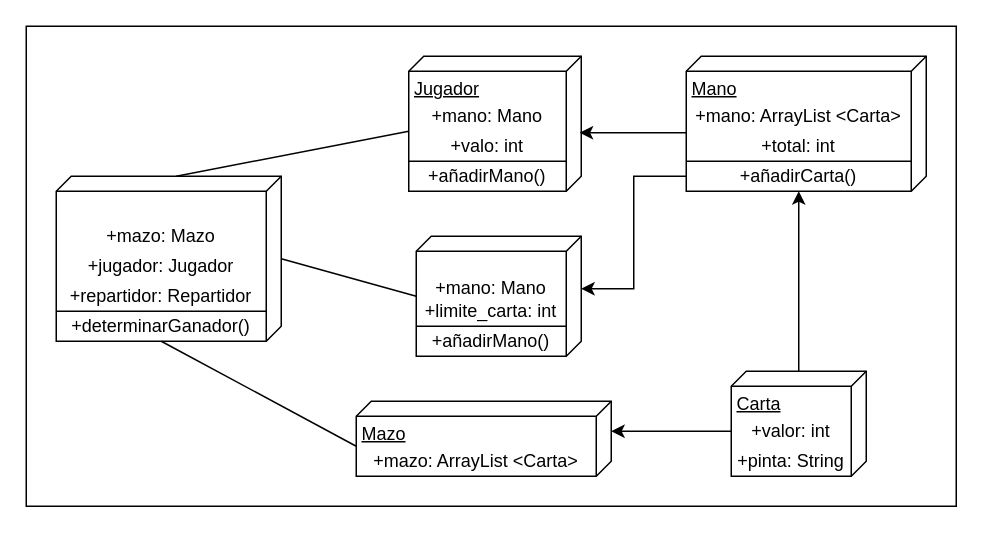
Image size: 983x533. Some labels were removed from this diagram. The box of each missing label's shape, as (x1, y1, x2, y2) in pixels:
Repartidor: (415, 235, 581, 356)
Ventiuna: (55, 175, 281, 341)
